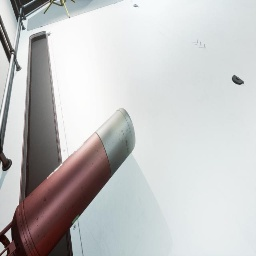NitrogenTank ,: (0, 108, 135, 256)
